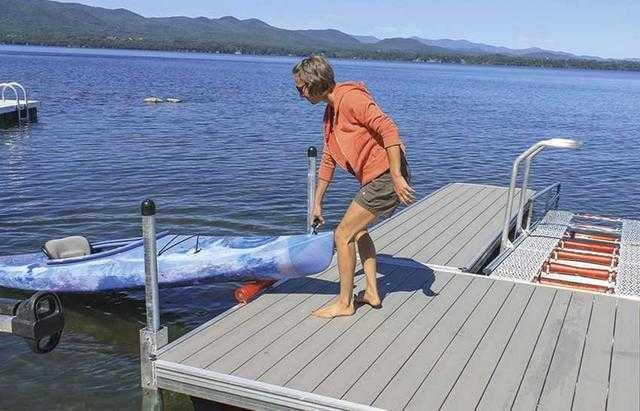kayak: (2, 135, 638, 407), (0, 229, 333, 294), (0, 80, 40, 115)
